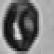correct: (0, 0, 48, 51)
